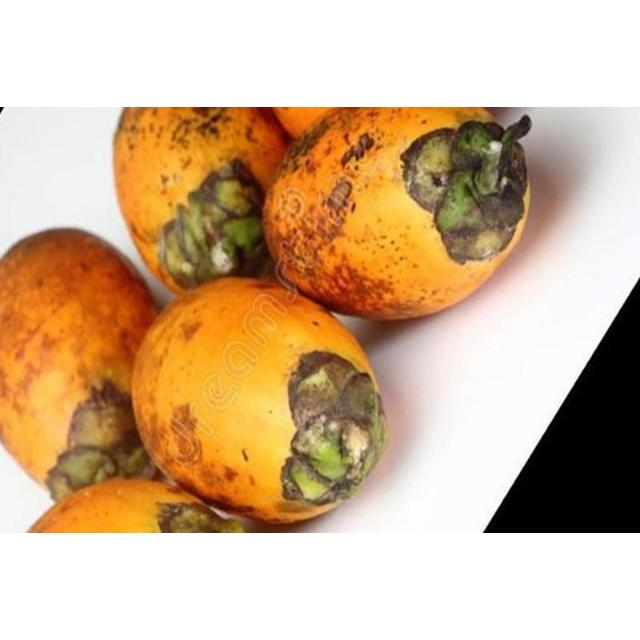good: (130, 277, 389, 527), (262, 107, 532, 323), (0, 229, 170, 502), (111, 107, 295, 296), (24, 480, 247, 533)
